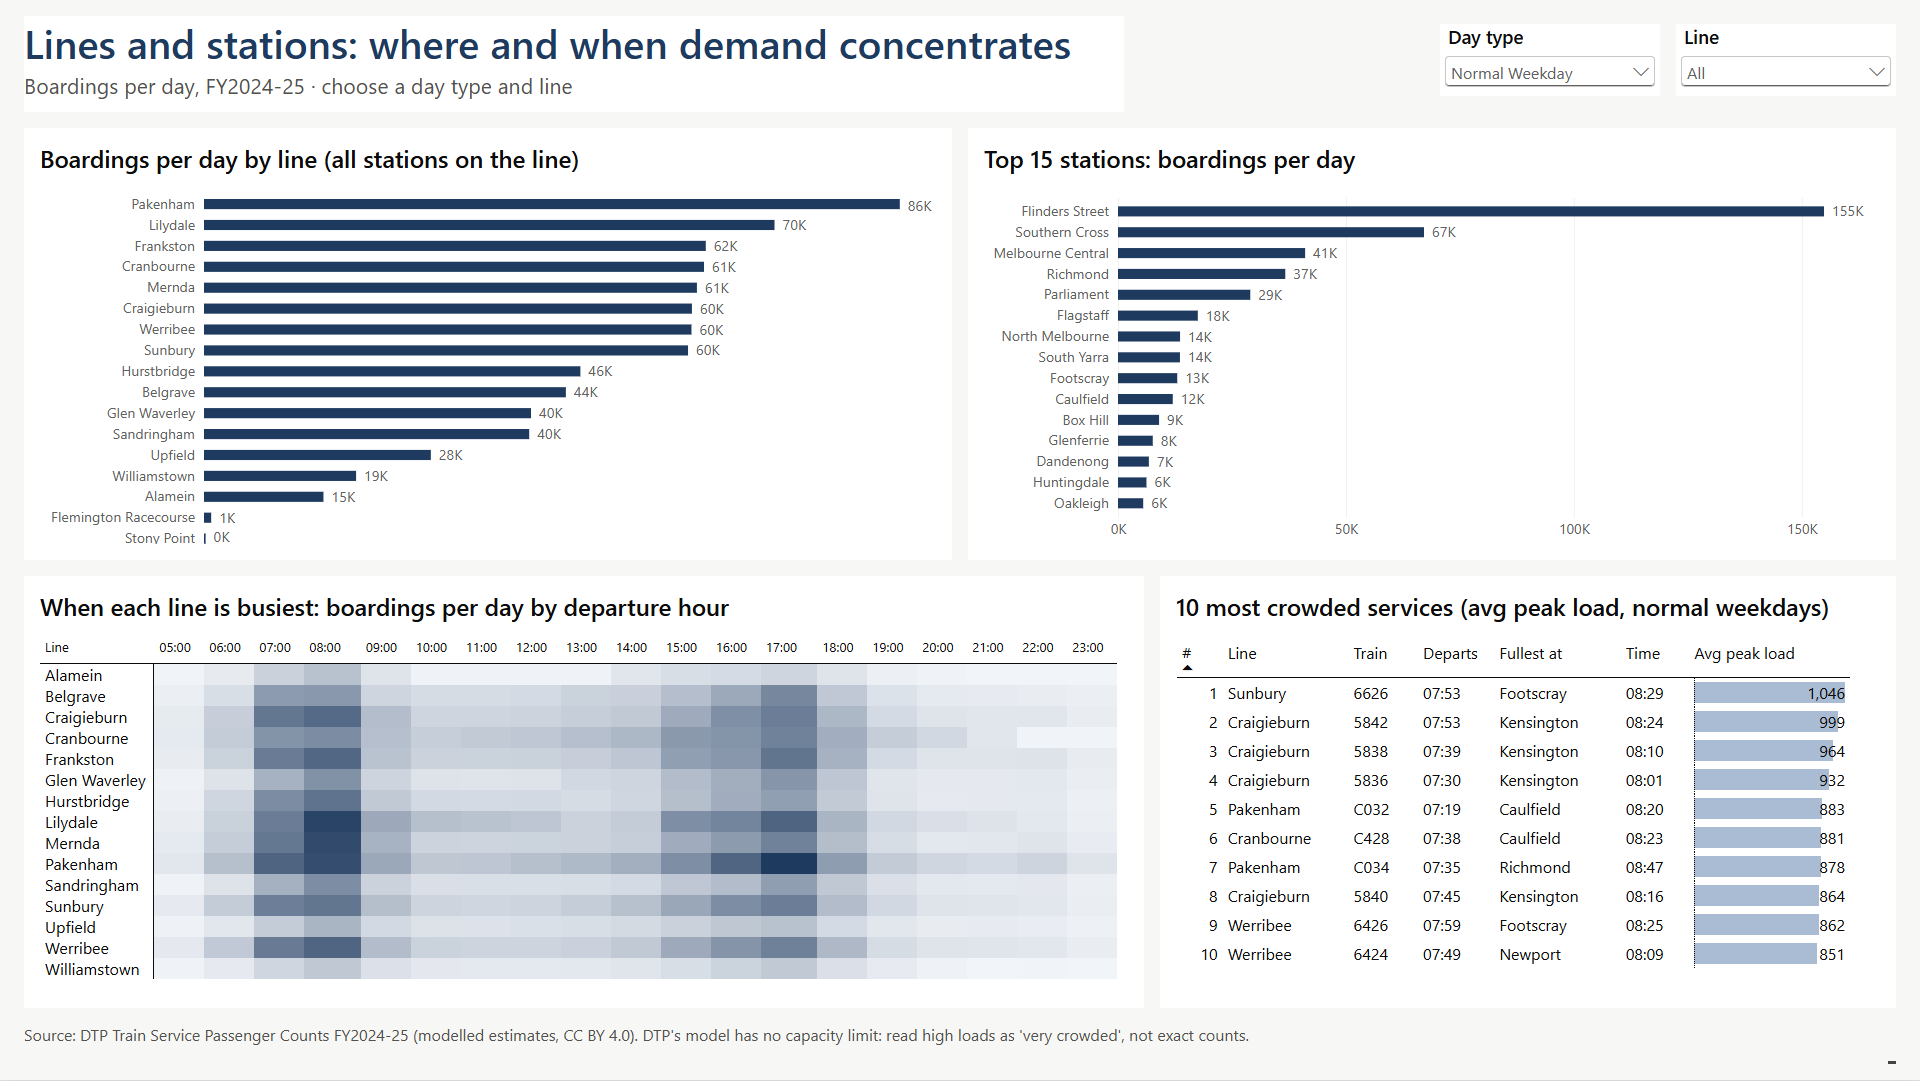

The page's visual inventory and layout, read from the dashboard file:
{"tool":"powerbi","page":{"name":"Lines and stations","canvas":[1920,1080],"ordinal":1},"visuals":[{"type":"textbox","title":"Lines and stations: where and when demand concentrates","box":[24,16,1100,96],"z":0},{"type":"slicer","fields":{"Values":["DIM_LINE.LINE_LABEL"]},"box":[1676,24,220,72],"z":1000},{"type":"clusteredBarChart","title":"Boardings per day by line (all stations on the line)","fields":{"Category":["DIM_LINE.LINE_LABEL"],"Y":["_Measures.Avg Daily Boardings"]},"box":[24,128,928,432],"z":2000},{"type":"clusteredBarChart","title":"Top 15 stations: boardings per day","fields":{"Category":["DIM_STATION.STATION_NAME"],"Y":["_Measures.Avg Station Boardings"]},"box":[968,128.3,928,432],"z":3000},{"type":"pivotTable","title":"When each line is busiest: boardings per day by departure hour","fields":{"Columns":["HOURLY_PROFILE.HOUR_LABEL"],"Rows":["DIM_LINE.LINE_LABEL"],"Values":["_Measures.Avg Half-Hour Boardings"]},"box":[24,576,1120,432],"z":4000},{"type":"tableEx","title":"10 most crowded services (avg peak load, normal weekdays)","fields":{"Values":["Sum(PEAK_LOAD_SERVICES.LOAD_RANK)","PEAK_LOAD_SERVICES.LINE_NAME","PEAK_LOAD_SERVICES.TRAIN_NUMBER","PEAK_LOAD_SERVICES.USUAL_FIRST_DEPARTURE","PEAK_LOAD_SERVICES.USUAL_PEAK_STATION","PEAK_LOAD_SERVICES.USUAL_PEAK_TIME","Sum(PEAK_LOAD_SERVICES.AVG_PEAK_LOAD)"]},"box":[1160,576,736,432],"z":5000},{"type":"textbox","title":"Source: DTP Train Service Passenger Counts FY2024-25 (modelled estimates, CC BY 4.0). DTP''s model has no capacity limit: read high loads as ''very crowded'', not exact counts.","box":[24,1024,1872,40],"z":6000},{"type":"slicer","fields":{"Values":["DIM_DAY_TYPE.DAY_TYPE"]},"box":[1440,24,220,72],"z":7000}]}

Visuals, with their boxes in screenshot pixels (x1, y1, x2, y2), scaled from the page's 1920x1080 canvas onto the 1920x1081 screenshot:
"Lines and stations: where and when demand concentrates" textbox: l=24, t=16, r=1124, b=112
slicer - DIM_LINE.LINE_LABEL: l=1676, t=24, r=1896, b=96
"Boardings per day by line (all stations on the line)" clusteredBarChart: l=24, t=128, r=952, b=561
"Top 15 stations: boardings per day" clusteredBarChart: l=968, t=128, r=1896, b=561
"When each line is busiest: boardings per day by departure hour" pivotTable: l=24, t=577, r=1144, b=1009
"10 most crowded services (avg peak load, normal weekdays)" tableEx: l=1160, t=577, r=1896, b=1009
"Source: DTP Train Service Passenger Counts FY2024-25 (modelled estimates, CC BY 4.0). DTP''s model has no capacity limit: read high loads as ''very crowded'', not exact counts." textbox: l=24, t=1025, r=1896, b=1065
slicer - DIM_DAY_TYPE.DAY_TYPE: l=1440, t=24, r=1660, b=96
